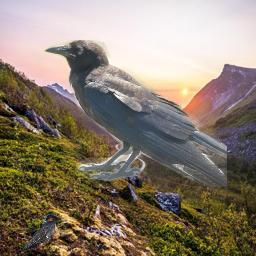Crow: (43, 40, 227, 187)
Swallow: (20, 214, 61, 250)
